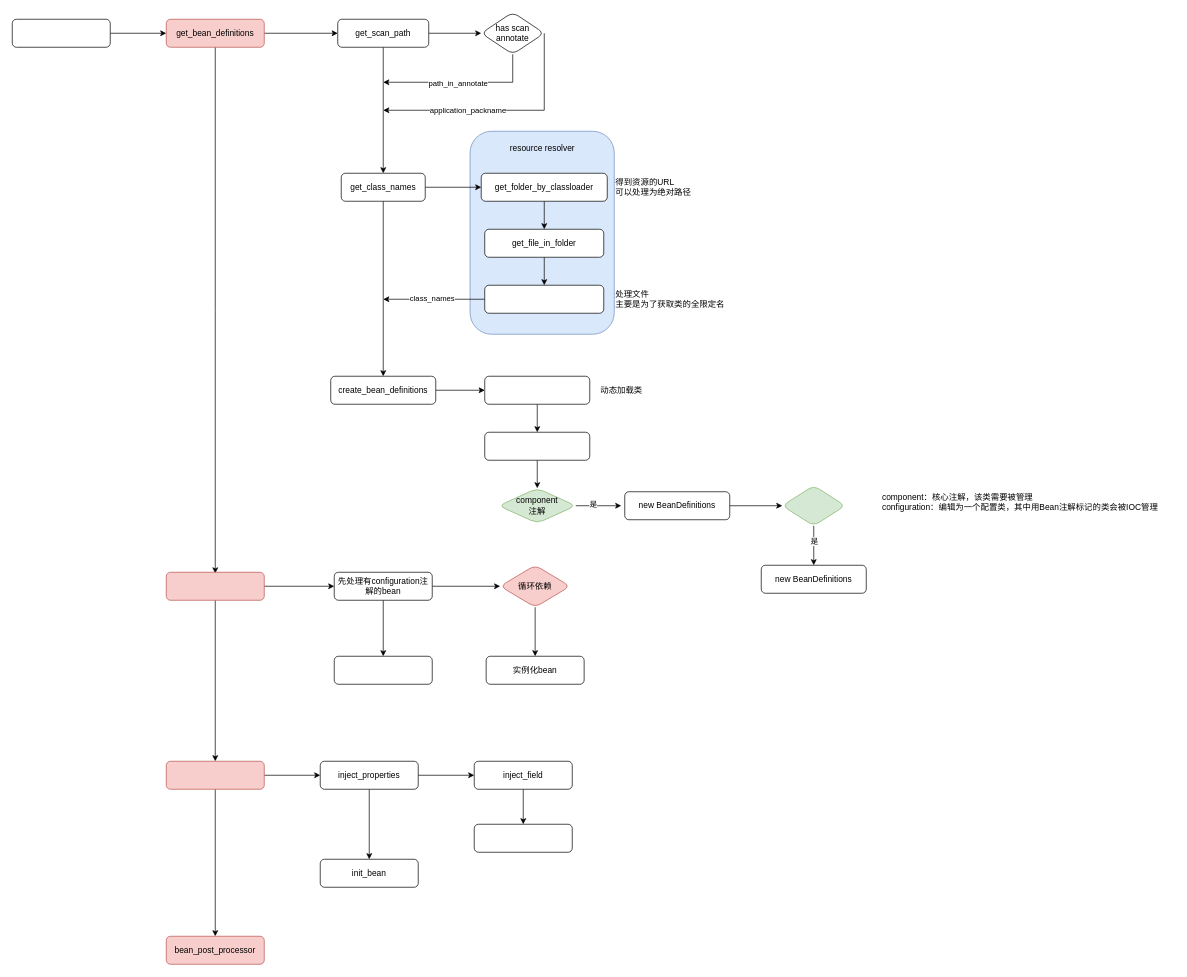
The diagram is 1187 pixels wide and 977 high, and some of its shapes have lost their labels. Here are the shapes that lost their labels. From the top down, the centre of each, then its label:
At [61,33]: "Application.class".
At [544,299]: "获取类的全限定名".
At [537,390]: "Class.forName".
At [537,446]: "get_bean_name".
At [813,505]: "configureation 注解".
At [215,586]: "create_bean_instances".
At [383,670]: "实例化其他bean".
At [215,775]: "init_bean_instances".
At [523,838]: "inject_method".
